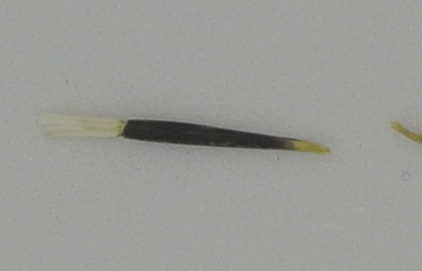เมล็ดดีเรียวยาว: (36, 107, 332, 159)
